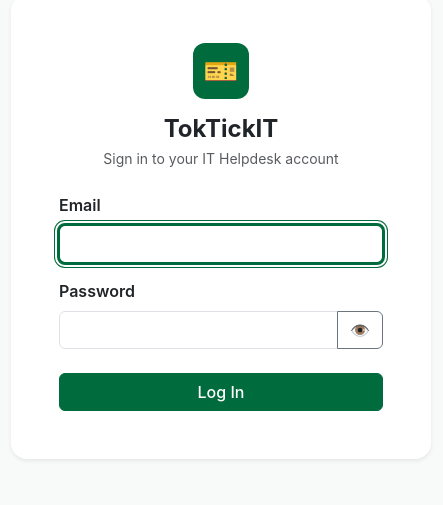
Test: Login Screen (AC-01, AC-05, AC-06) › UI-01c: renders a generic error message on invalid credentials (BR-06 — no field is singled out)
Type "wrong@toktick.internal" into the field labelled "Email".
click(221, 244); type("wrong@toktick.internal")  # box [59,225,383,263]
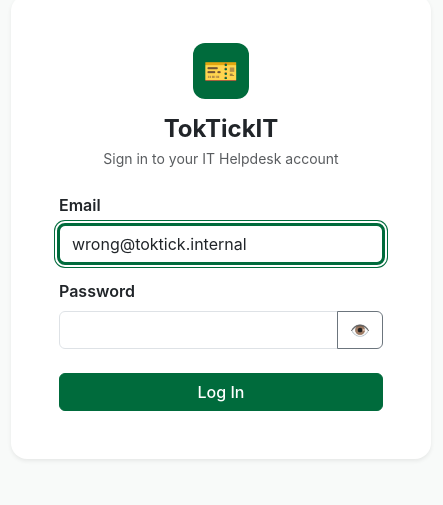
Type "wrongpass" into the password field labelled "Password".
click(198, 330); type("wrongpass")  # box [59,311,338,349]
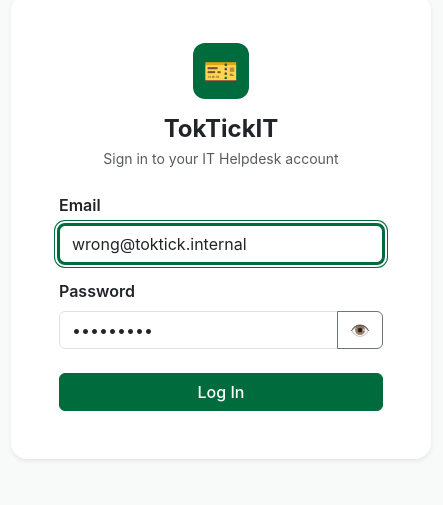
Click the button "Log In".
click(221, 392)  # box [59,373,383,411]
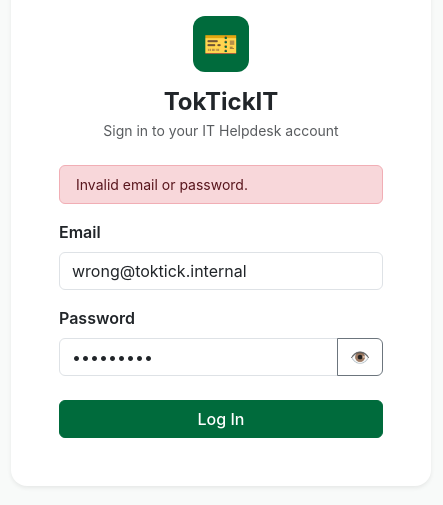
Check: the text "Invalid email or password." is shown, box [59,165,383,204]
